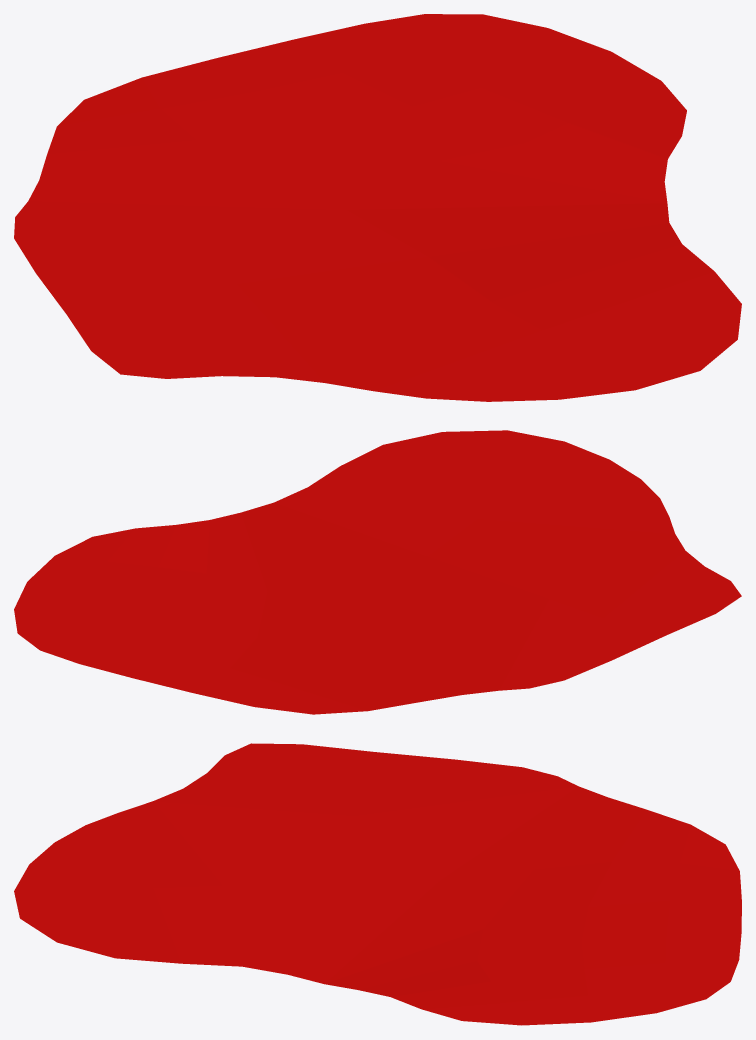
Rendered from blood pool.fbx.
3 renders of one model, top to bottom at view 1: azimuth 30°, elevation 25°; view 2: azimuth 150°, elevation 25°; view 3: azimuth 270°, elevation 25°, orthographic. The views are drawn at different scales.
Visible parts, largest first — view 1: Plane; view 2: Plane; view 3: Plane.
Part boxes in pixels (x1,y1,x2,y2): Plane: (14, 14, 741, 401); Plane: (14, 430, 741, 714); Plane: (14, 743, 741, 1025).
Bounding box in the file's own units: 1.81 × 0.0168 × 1.97.
